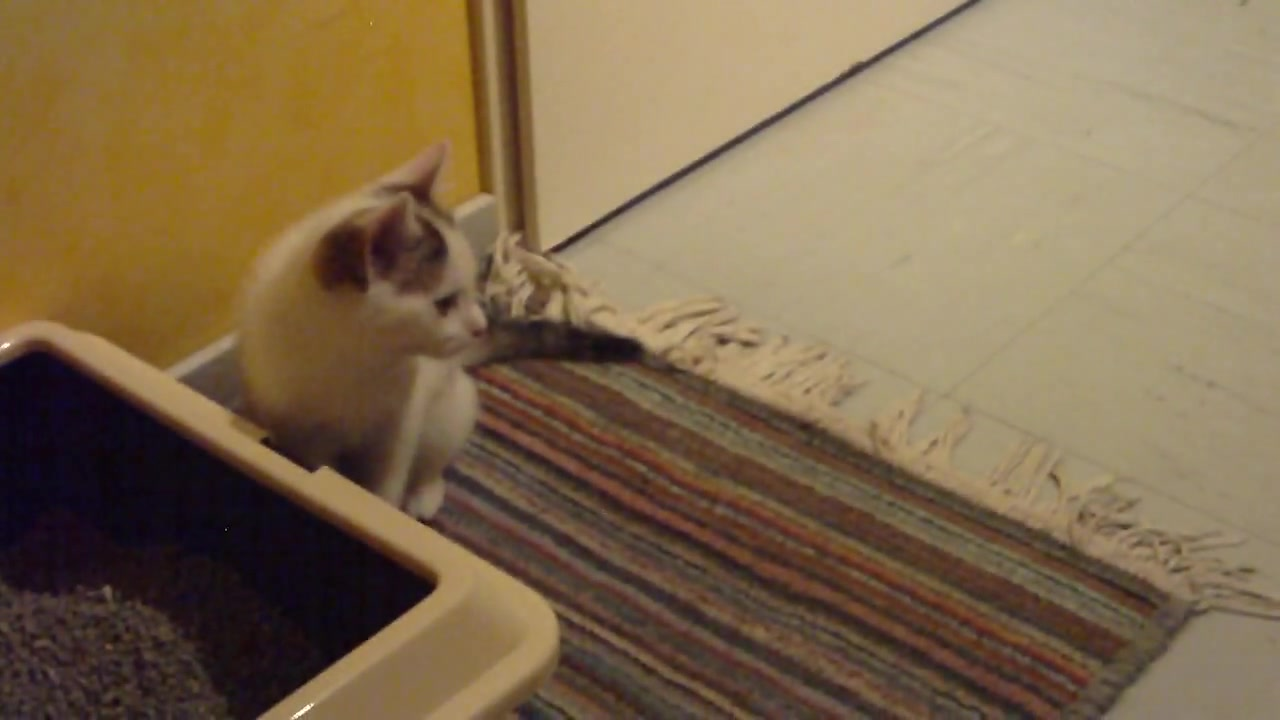cat: (232, 147, 652, 526)
